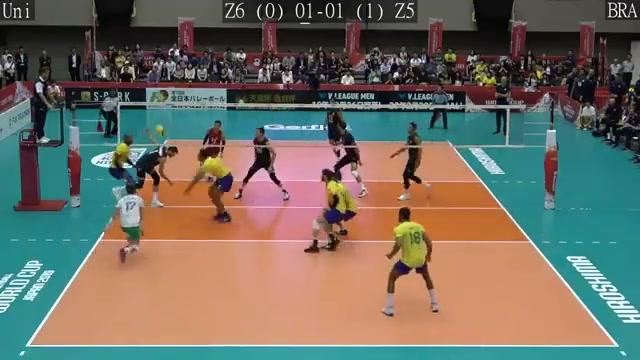ball: (154, 121, 165, 137)
